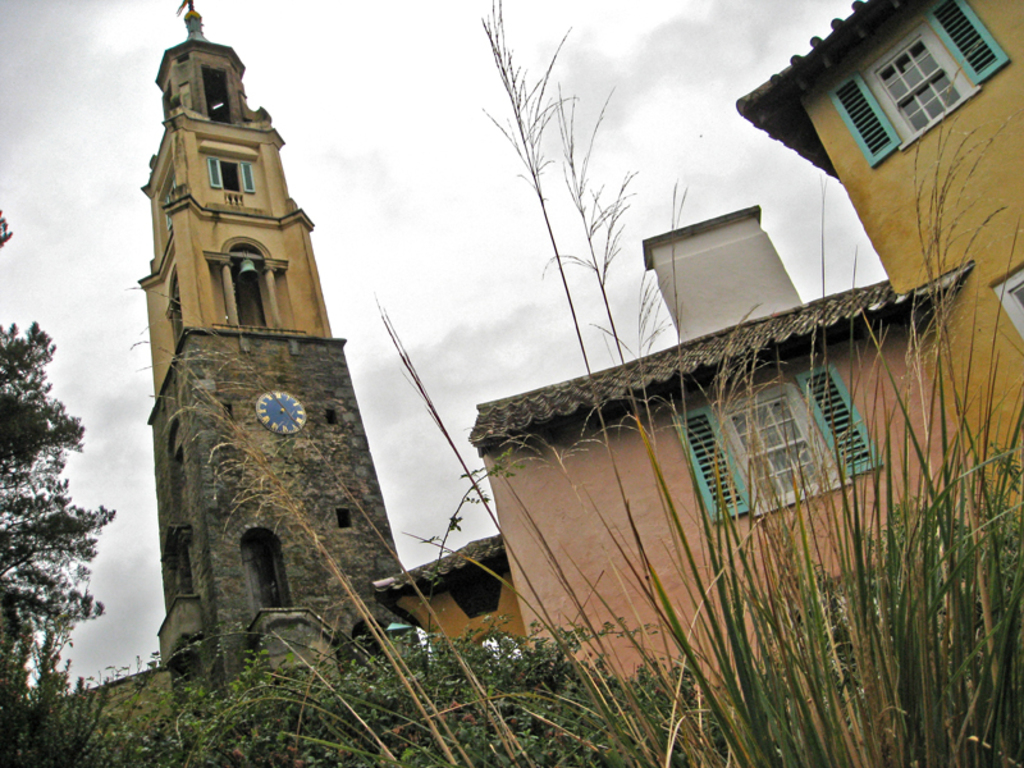Window: (675, 365, 882, 517), (861, 18, 986, 152), (989, 260, 1023, 347), (218, 160, 246, 195)
